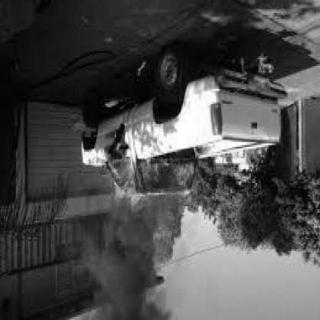Fire: (97, 155, 210, 237)
Smoke: (90, 243, 161, 317)
